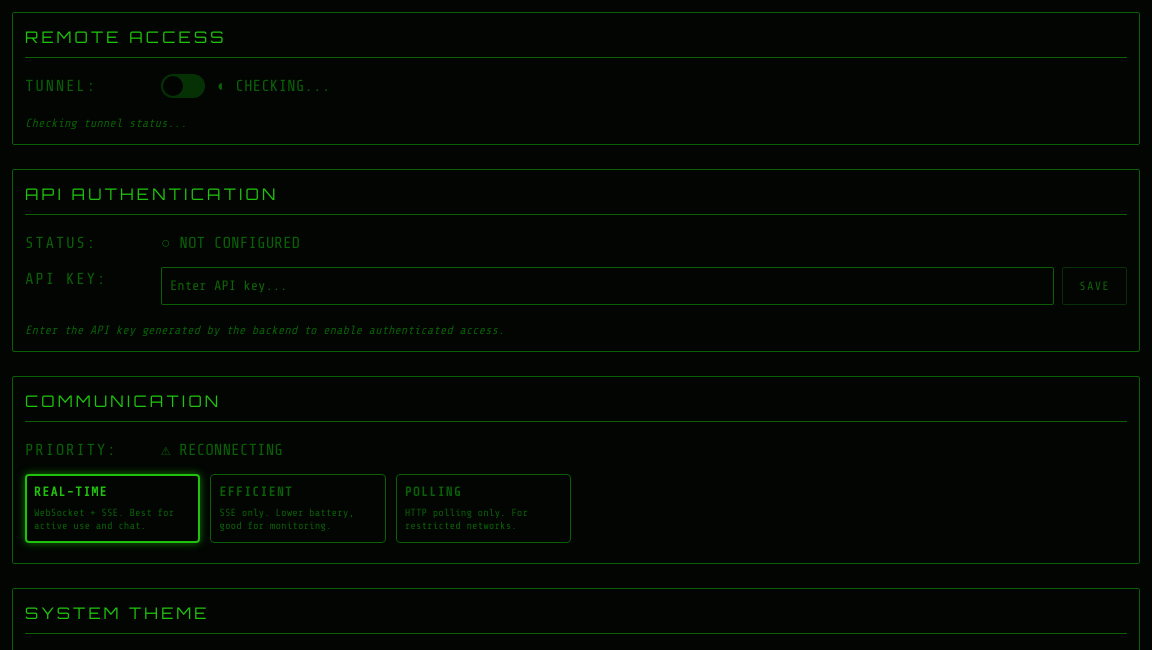
Scenario: Communication Settings › priority selection › should switch to efficient mode when clicked
The image size is (1152, 650).
Click the text "EFFICIENT".
click(256, 493)  # box [219,483,293,503]
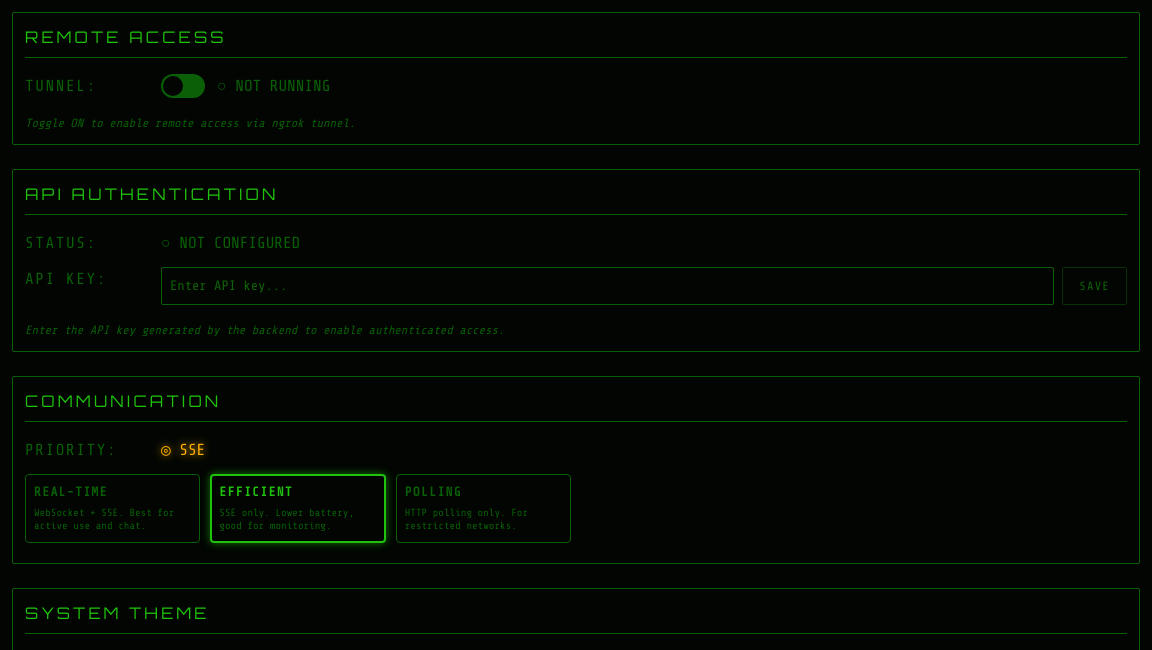
Result: the text "◎ SSE" is shown at [161,438,205,462]
